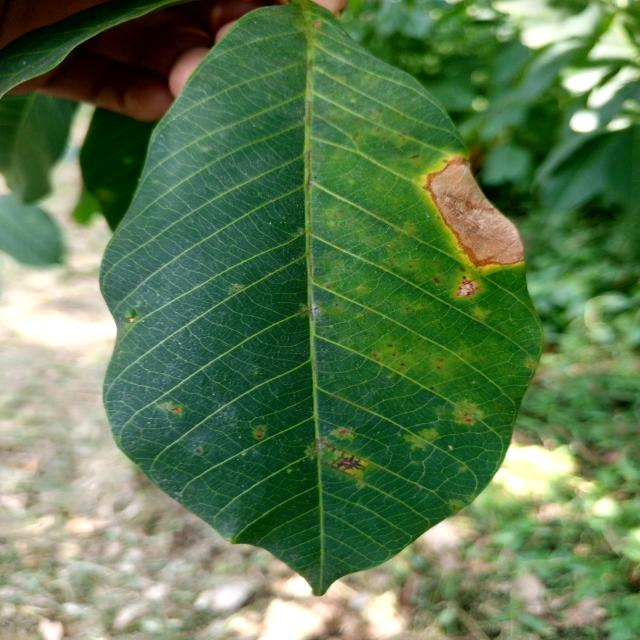Corynespora: (330, 452, 365, 472)
Leaf-Blight: (425, 158, 525, 266)
